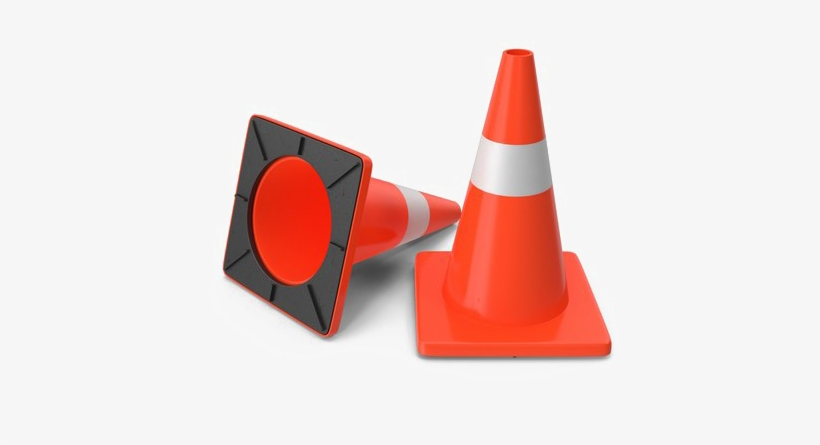cones: (408, 44, 619, 371), (203, 110, 462, 346)
